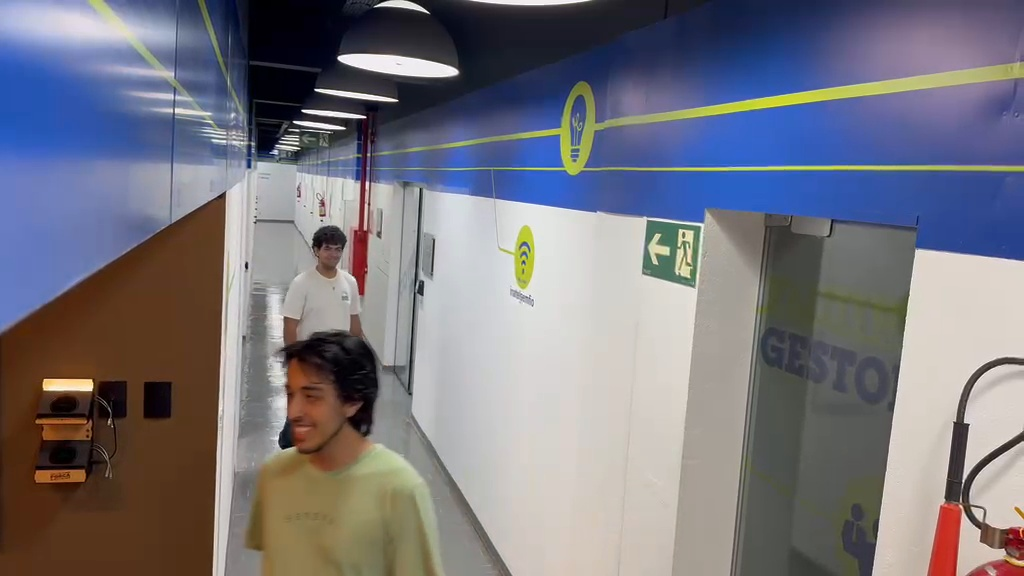person: (245, 332, 446, 573), (280, 225, 365, 354)
